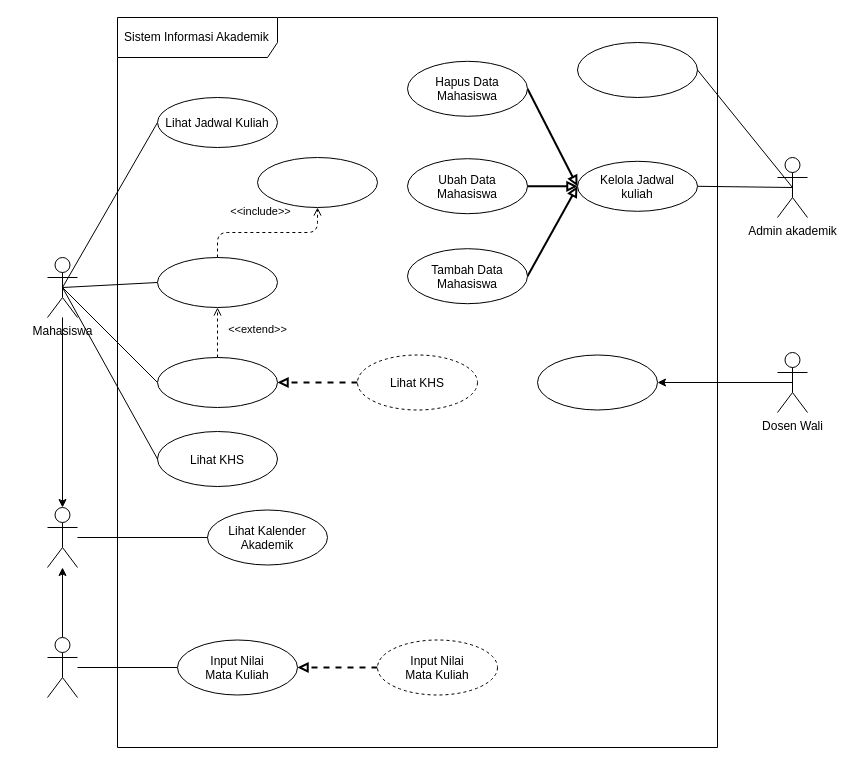
Image size: 854x765. Some labels were removed from this diagram. Here are the shapes that lost their labels. From the top down, the box of each, then its label:
(576, 42, 698, 98): Kelola Data Mahasiswa
(256, 156, 378, 208): Validasi KRS
(156, 256, 278, 308): Ajukan KRS
(156, 356, 278, 408): Unduh bukti pengajuan
(536, 354, 658, 410): Proses persetujuan/ penolakan KRS
(46, 506, 78, 568): Civitas Akademik
(46, 636, 78, 698): Dosen
